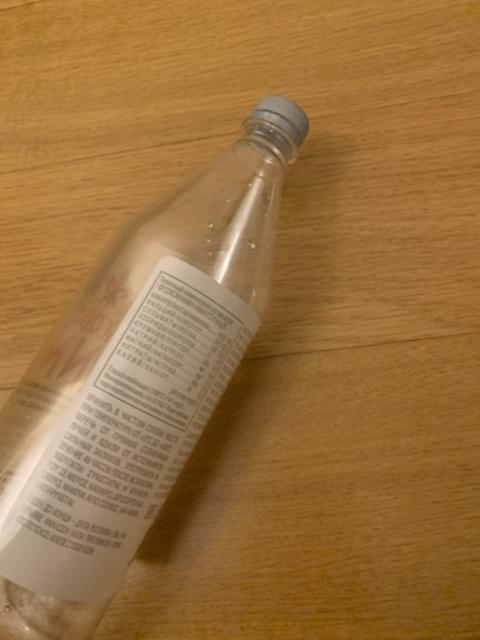plastic: (0, 95, 305, 638)
